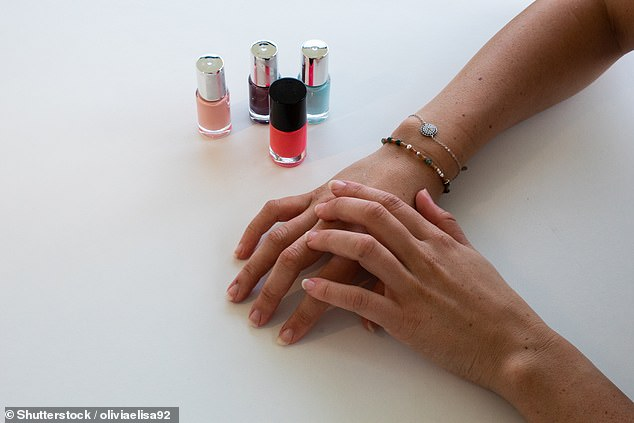finger: (219, 208, 315, 306), (268, 248, 367, 343), (247, 215, 331, 322), (306, 191, 441, 257), (322, 177, 434, 245), (304, 230, 416, 286), (233, 184, 306, 263), (297, 276, 396, 328)
